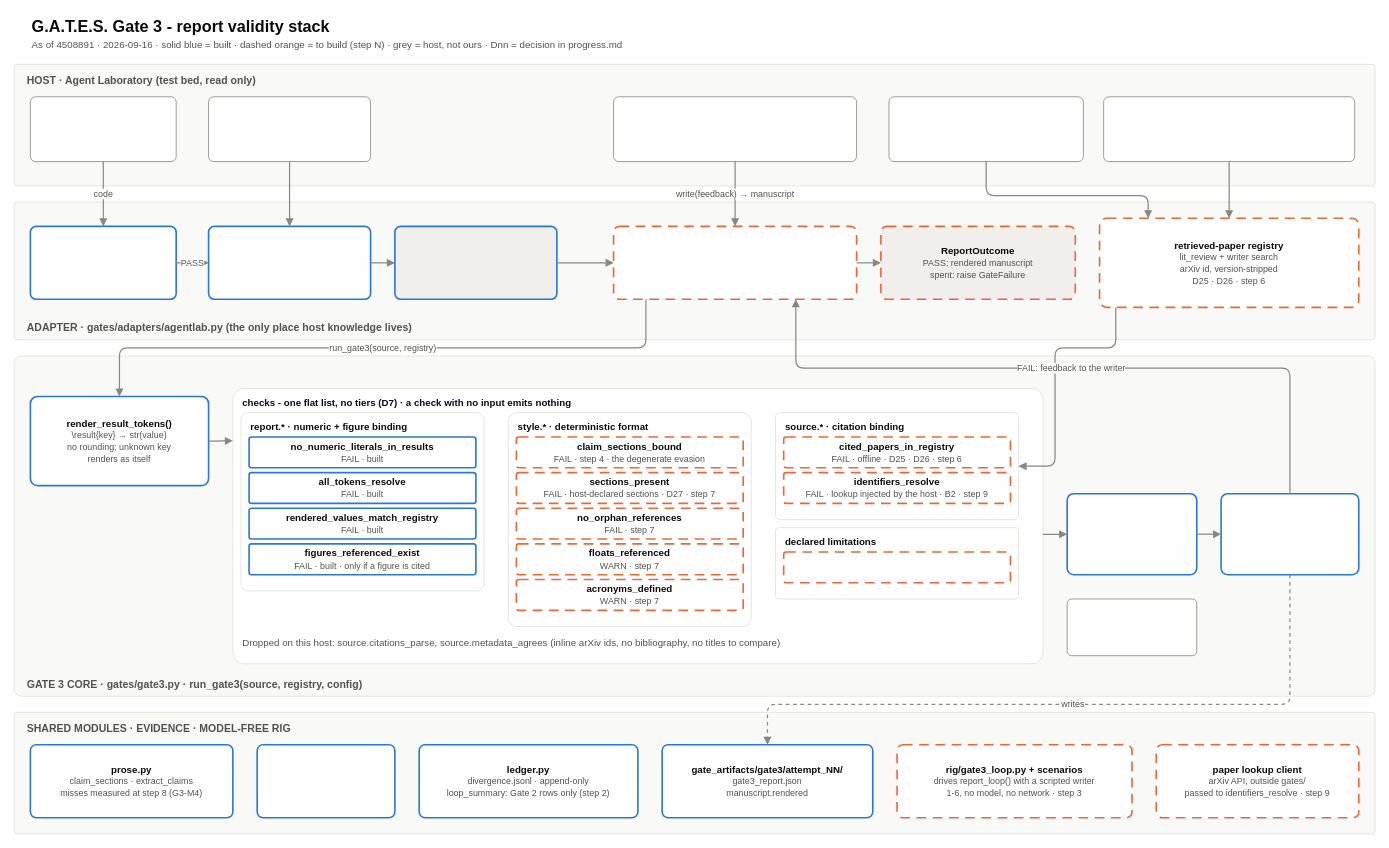
This 1389x848 diagram has some shape labels left out. Each missing label, with the centre of its shape:
"decide() FAIL-severity checks alone decide · schema.py" goes at (x=1131, y=533).
"experiment phase MLE solver writes and runs code" goes at (x=103, y=129).
"gated_execute() Gate 1 · raises on exhaustion" goes at (x=103, y=262).
"GateReport render_feedback() gates/report.py" goes at (x=1289, y=533).
"limitations rendered verbatim FAIL · D28 · step 5 · id not named yet" goes at (x=896, y=567).
"lit_review ADD_PAPER entries · agents.py:715" goes at (x=985, y=129).
"make_report_context() report_loop() · gated_report() step 2" goes at (x=734, y=262).
"model calls never reach a Gate 3 verdict" goes at (x=1131, y=627).
"registry.py citable_values()" goes at (x=325, y=781).
"report writing PaperSolver · papersolver.py" goes at (x=735, y=129).
"results interpretation review phase" goes at (x=289, y=129).
"review_loop() Gate 2 tiers A+B+C proceeds on exhaustion" goes at (x=289, y=262).
"ReviewOutcome registry: values to bind declared: limitations" goes at (x=475, y=262).
"section_related_work writer's own arXiv search papersolver.py:349" goes at (x=1229, y=129).
